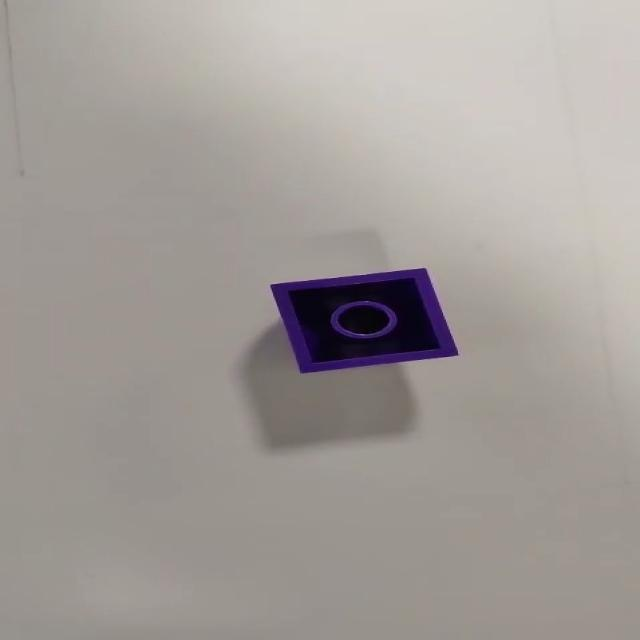H2x2x1: (263, 265, 460, 373)
